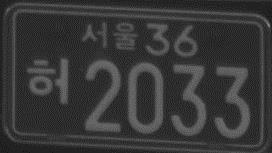0: (124, 60, 165, 137)
2: (82, 57, 123, 136)
3: (213, 64, 251, 141), (170, 62, 208, 137), (141, 21, 171, 58)
6: (172, 22, 198, 59)
서울_O: (79, 21, 141, 54)
허: (25, 54, 71, 108)
